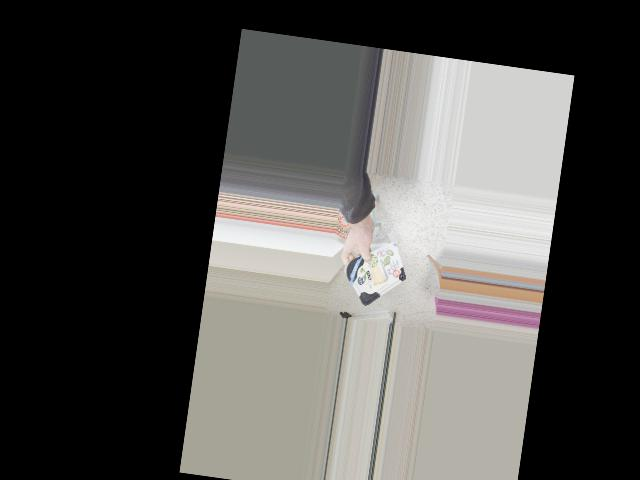cheese: (338, 240, 416, 310)
